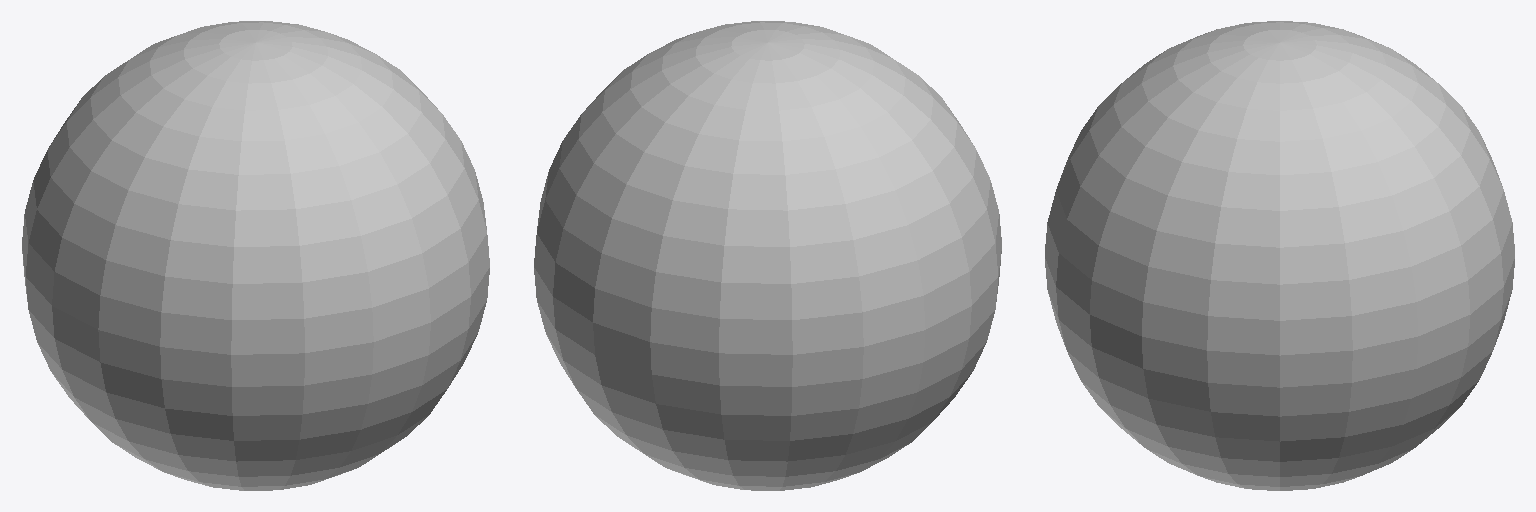
Rendered from spherewhite.obj.
3 renders of one model, left to right at view 1: azimuth 30°, elevation 25°; view 2: azimuth 150°, elevation 25°; view 3: azimuth 270°, elevation 25°, orthographic.
Parts seen in each view (by area): view 1: pSphere1; view 2: pSphere1; view 3: pSphere1.
Part boxes in pixels (left/top/right/bottom): pSphere1: left=22, top=21, right=489, bottom=490; pSphere1: left=534, top=21, right=1001, bottom=490; pSphere1: left=1045, top=21, right=1514, bottom=490.
Bounding box in the file's own units: 3.75 × 3.75 × 3.75.